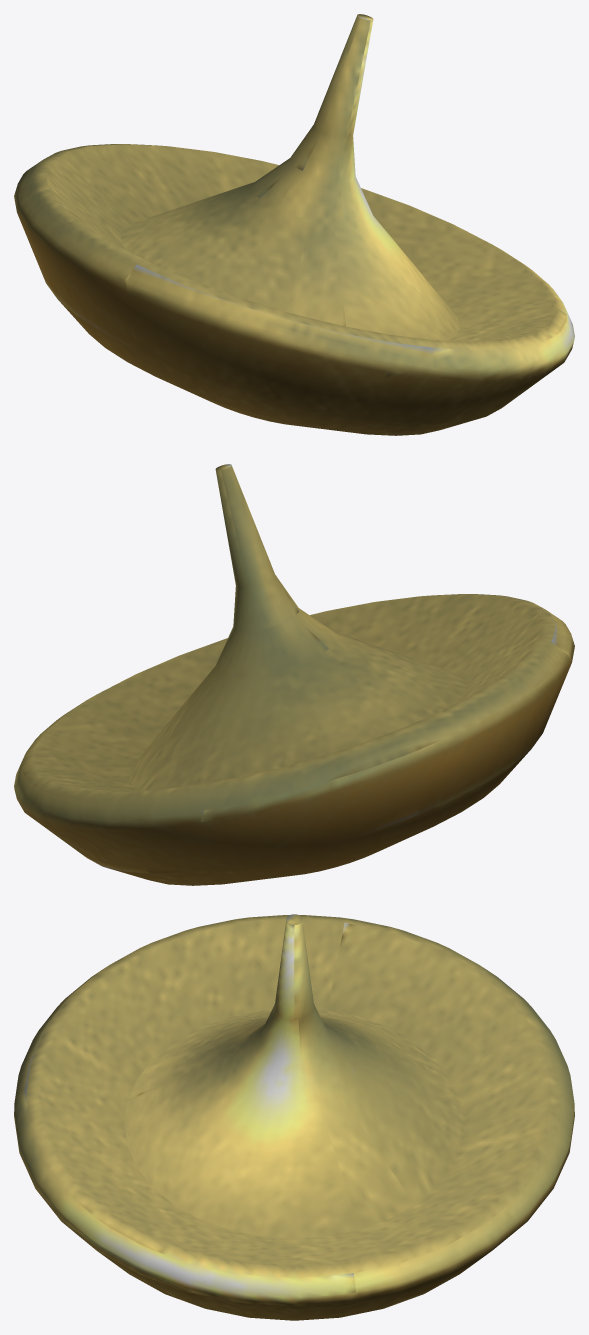
File: Gyro.glb
The picture shows the model from 3 angles, top to bottom: view 1: azimuth 30°, elevation 25°; view 2: azimuth 150°, elevation 25°; view 3: azimuth 270°, elevation 25°; orthographic projection. The views are drawn at different scales.
Parts seen in each view (by area): view 1: 圆环.001; view 2: 圆环.001; view 3: 圆环.001.
Boxes of the visible parts, x1=… form: 圆环.001: x1=14, y1=14, x2=574, y2=435; 圆环.001: x1=14, y1=464, x2=574, y2=885; 圆环.001: x1=14, y1=914, x2=574, y2=1320.
Size of what is drawn, in the model's own units: 0.6946 by 0.5217 by 0.7249.
1 material, 1 textured.
